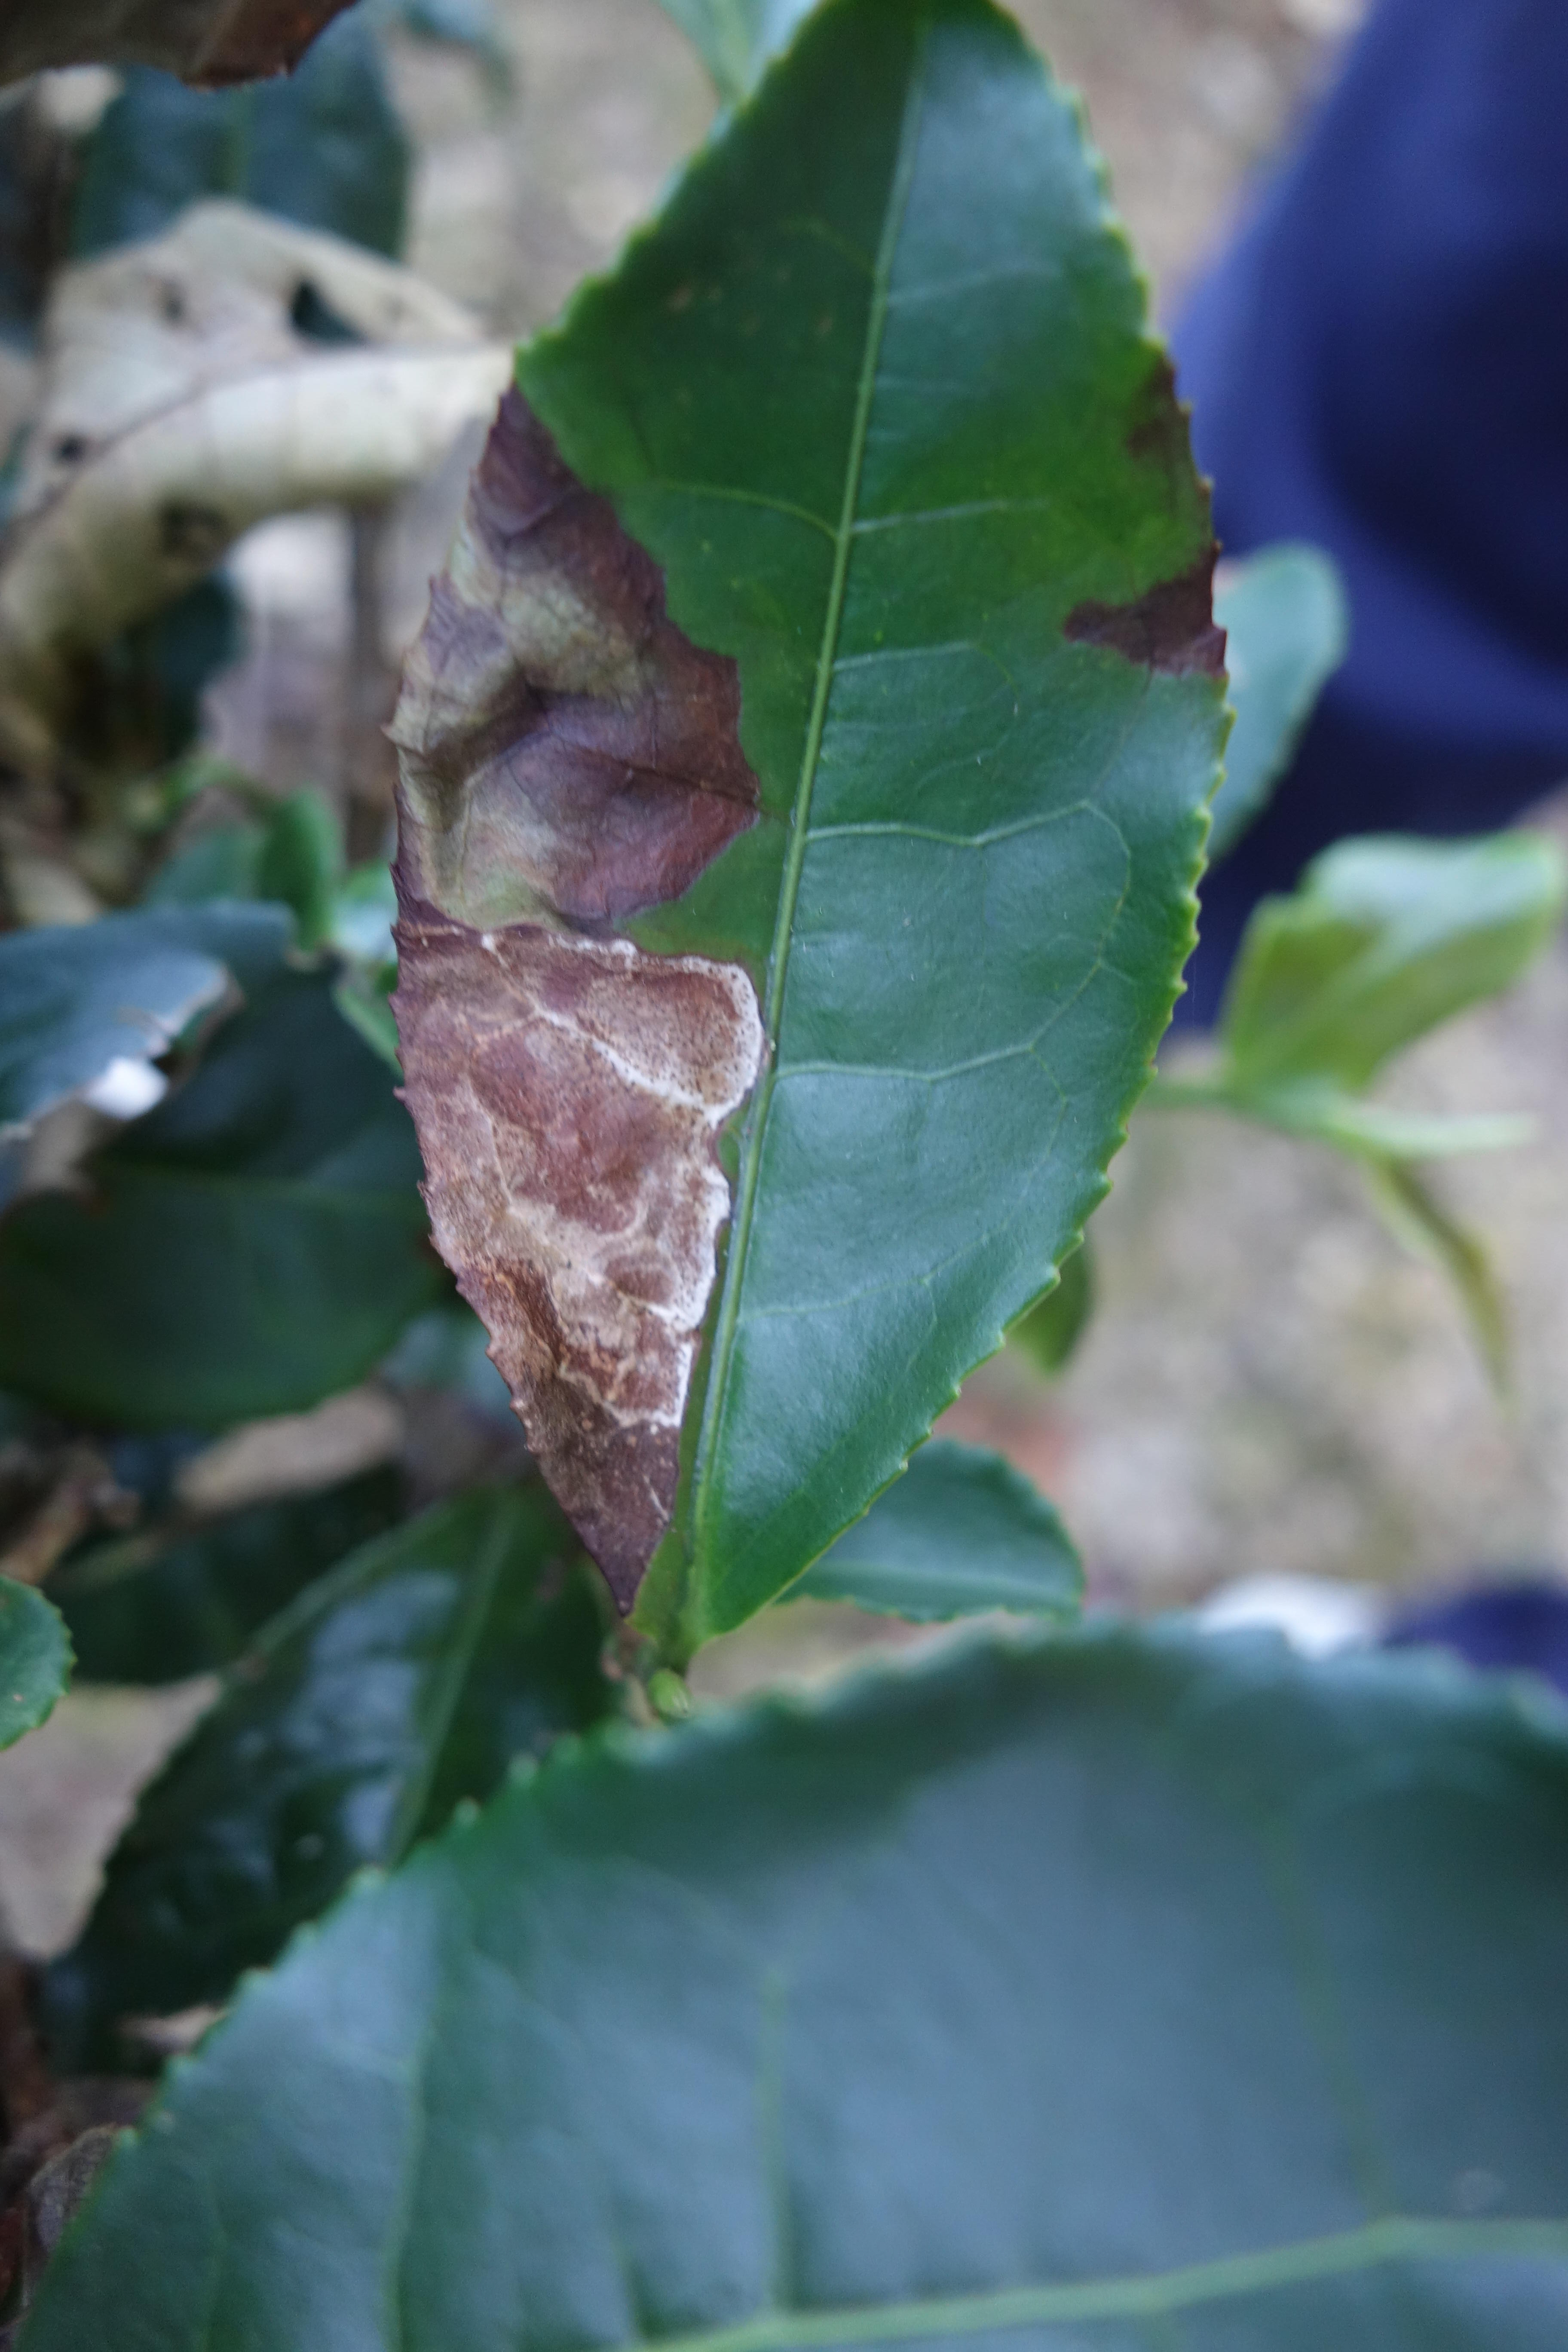tanju_high: (385, 5, 1232, 1680)
